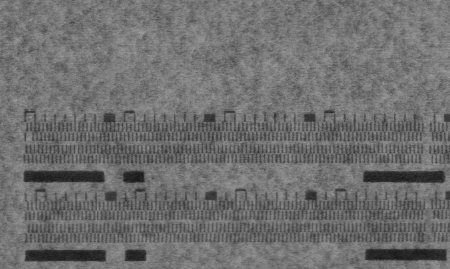Broken hole: (24, 132, 36, 143)
